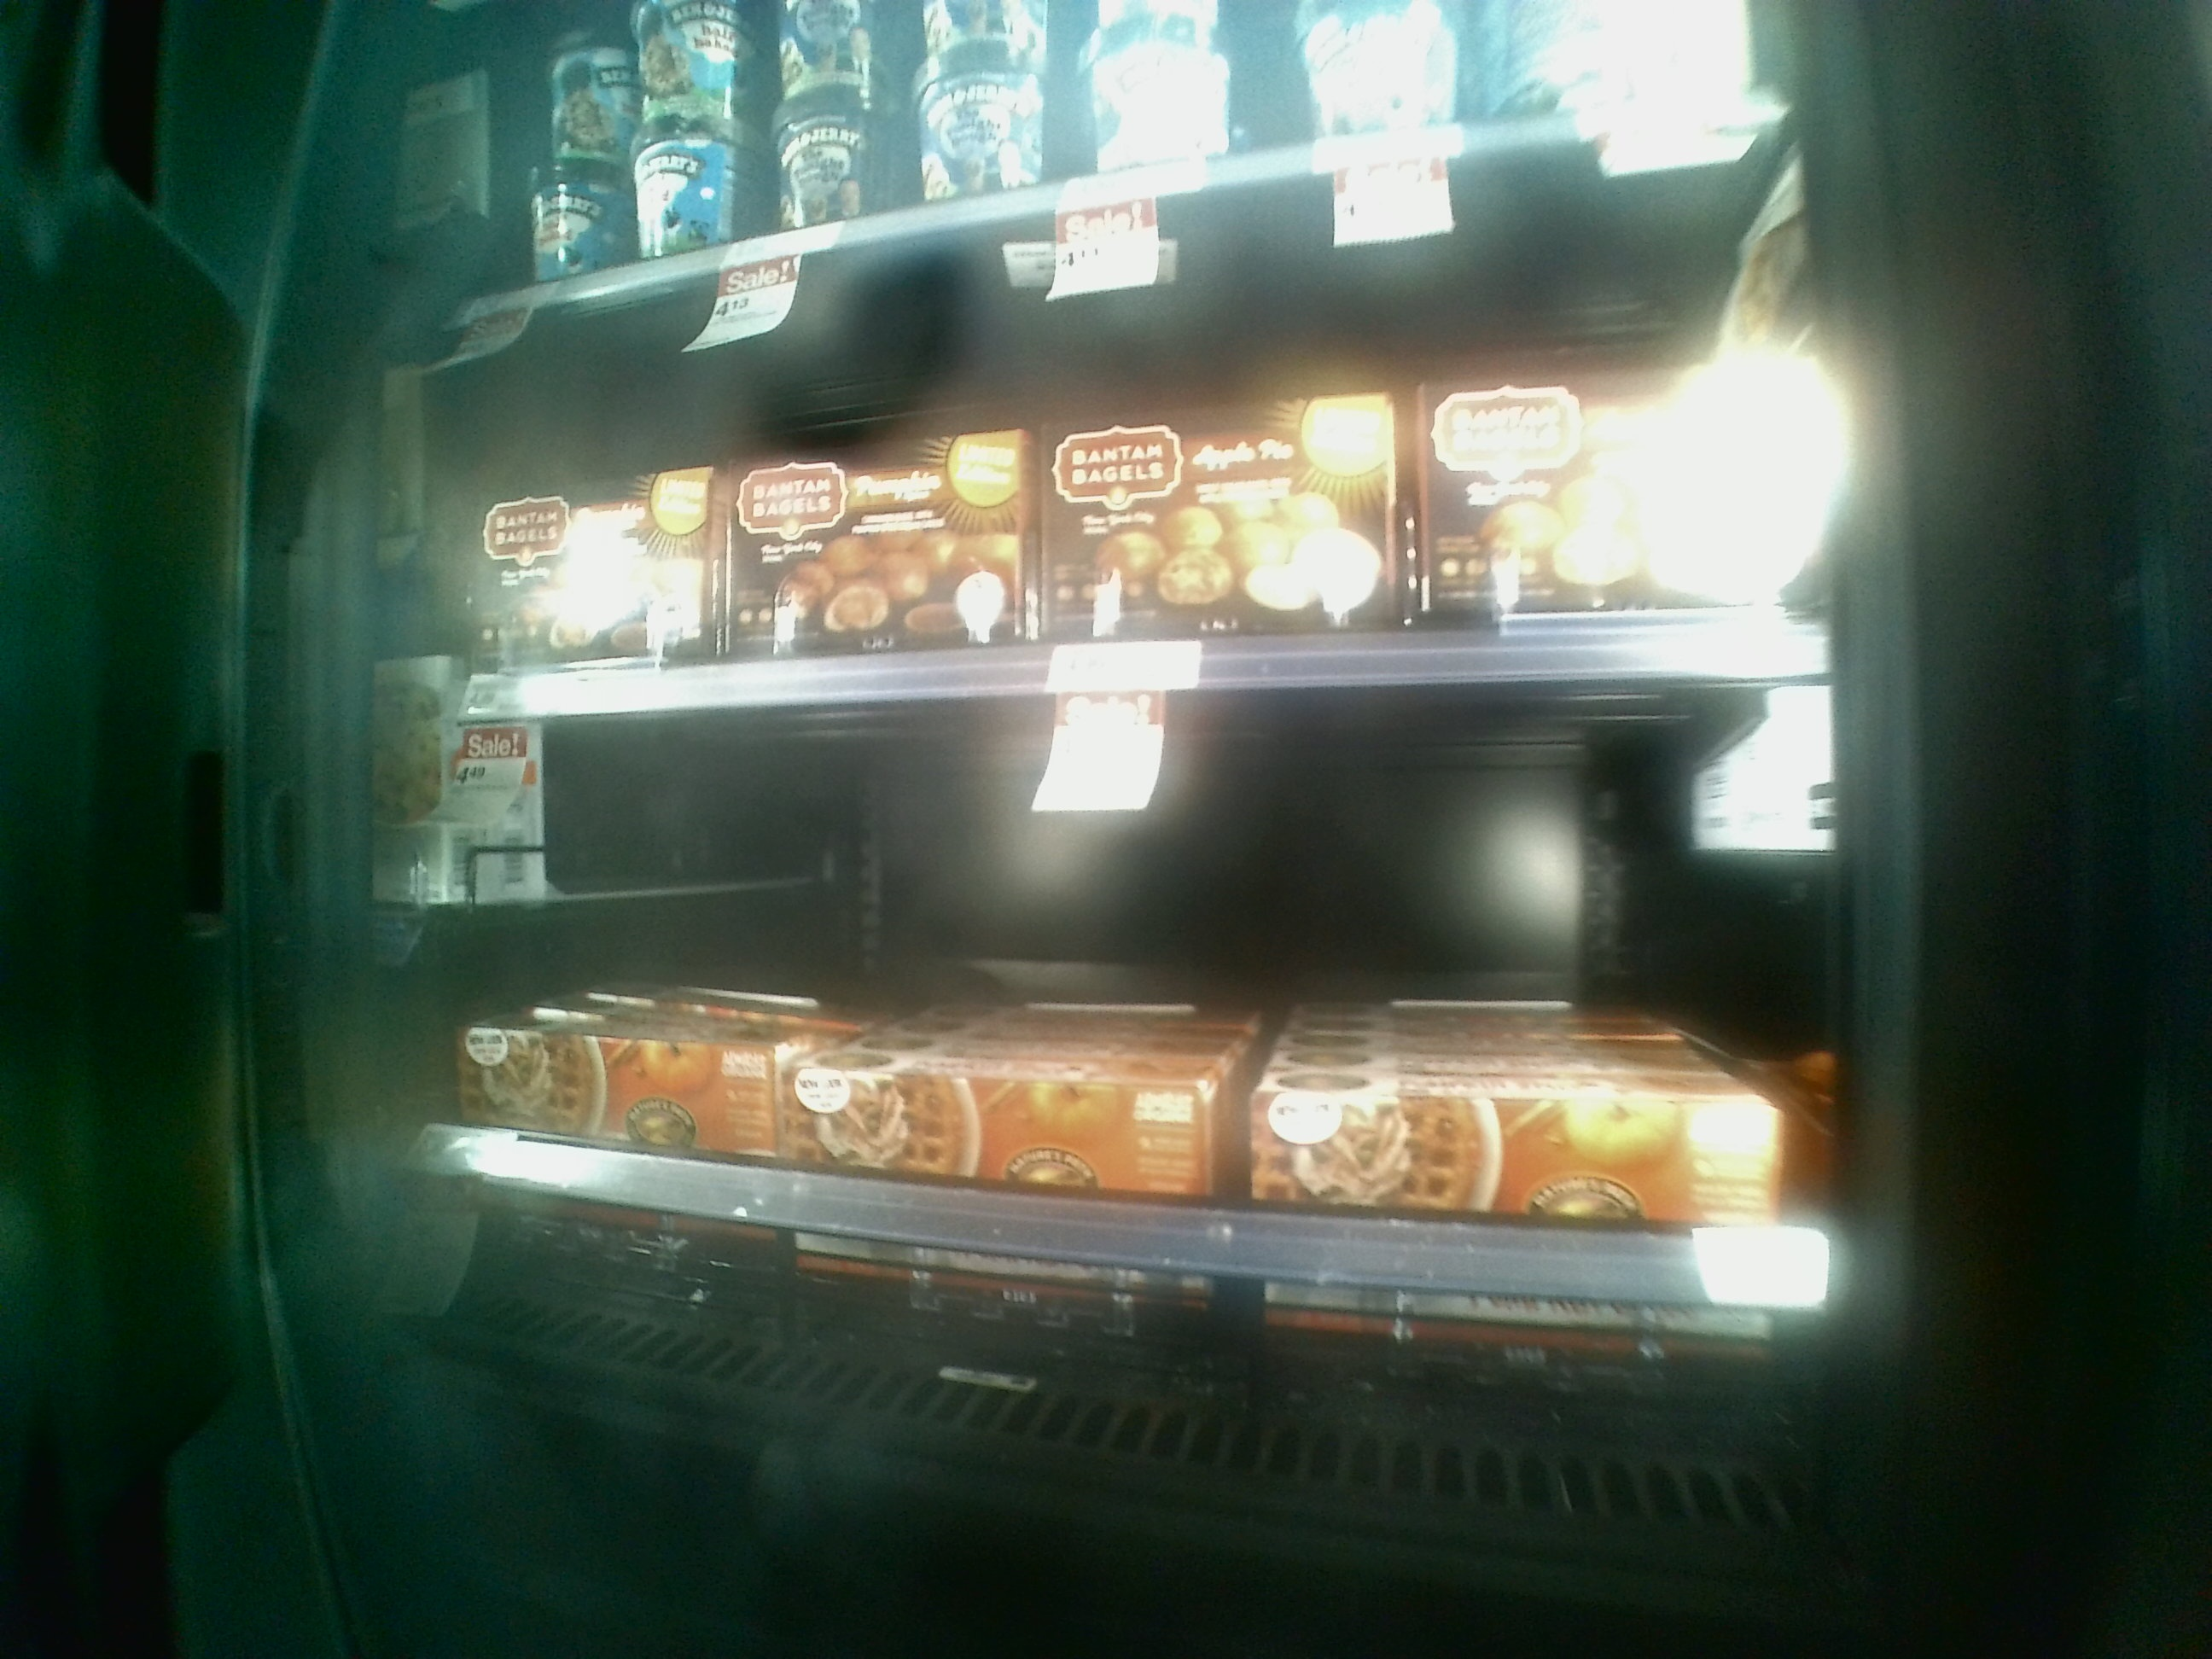shelf: (364, 708, 1853, 1516), (392, 279, 1838, 701)
